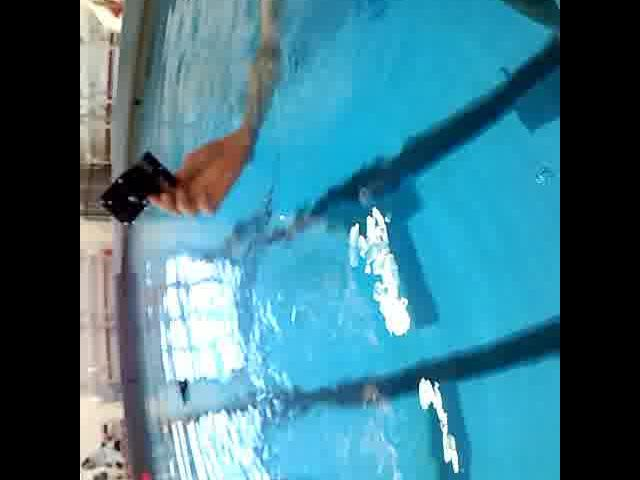CamMount: (98, 147, 182, 231), (173, 370, 193, 407)
